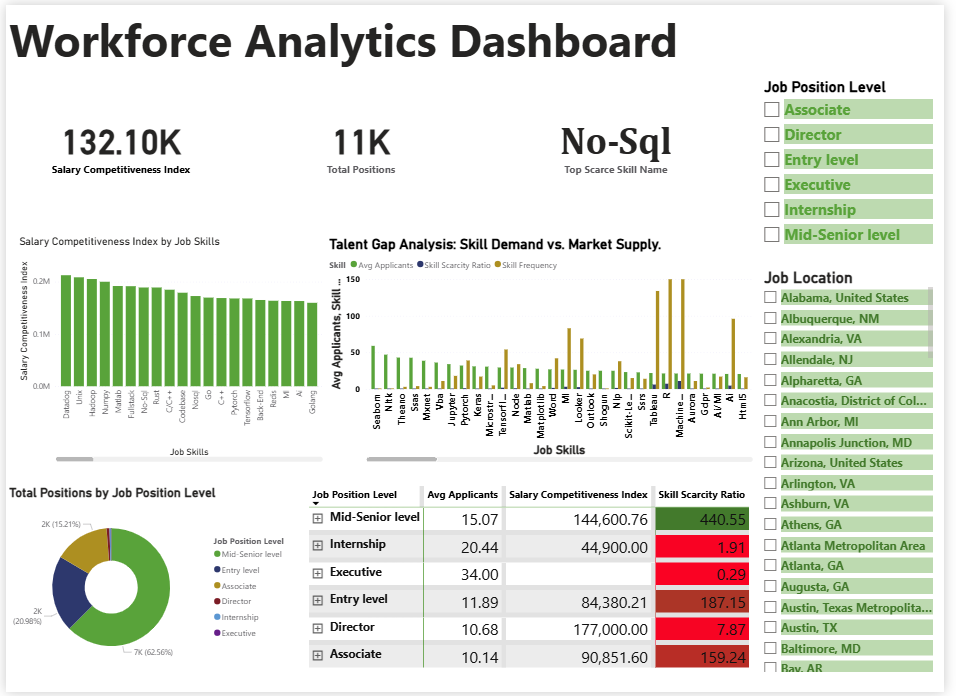

This screenshot's page, from the dashboard's own definition file:
{"tool":"powerbi","page":{"name":"Page 1","canvas":[1500,1100],"ordinal":0},"visuals":[{"type":"donutChart","fields":{"Category":["job_postings.Job Position Level"],"Y":["job_postings.Total Positions"]},"box":[0,768,464,304],"z":0},{"type":"textbox","box":[0,0,1280,144],"z":1000},{"type":"card","fields":{"Values":["job_postings.Salary Competitiveness Index"]},"box":[32,112,304,224],"z":2000},{"type":"card","fields":{"Values":["job_postings.Total Positions"]},"box":[416,112,304,224],"z":3000},{"type":"card","fields":{"Values":["job_postings.Top Scarce Skill Name"]},"box":[800,112,352,224],"z":4000},{"type":"clusteredColumnChart","fields":{"Category":["job_postings.Job Skills"],"Y":["job_postings.Salary Competitiveness Index"]},"box":[16,368,496,368],"z":5000},{"type":"clusteredColumnChart","title":"Talent Gap Analysis: Skill Demand vs. Market Supply.","fields":{"Category":["job_postings.Job Skills"],"Y":["job_postings.Avg Applicants","job_postings.Skill Scarcity Ratio","job_postings.Skill Frequency"]},"box":[512,368,688,368],"z":6000},{"type":"pivotTable","fields":{"Rows":["job_postings.Job Position Level","job_postings.Job Skills"],"Values":["job_postings.Avg Applicants","job_postings.Salary Competitiveness Index","job_postings.Skill Scarcity Ratio"]},"box":[480,764,720,336],"z":7000},{"type":"slicer","fields":{"Values":["job_postings.Job Position Level"]},"box":[1200,112,288,304],"z":8000},{"type":"slicer","fields":{"Values":["job_postings.Job Location"]},"box":[1200,416,288,640],"z":9000}]}

Visuals, with their boxes in screenshot pixels (x1, y1, x2, y2), scaled from the page's 1500x1100 canvas onto the 956x696 screenshot:
donutChart - job_postings.Job Position Level x job_postings.Total Positions: (left=0, top=486, right=296, bottom=678)
textbox: (left=0, top=0, right=816, bottom=91)
card - job_postings.Salary Competitiveness Index: (left=20, top=71, right=214, bottom=213)
card - job_postings.Total Positions: (left=265, top=71, right=459, bottom=213)
card - job_postings.Top Scarce Skill Name: (left=510, top=71, right=734, bottom=213)
clusteredColumnChart - job_postings.Job Skills x job_postings.Salary Competitiveness Index: (left=10, top=233, right=326, bottom=466)
"Talent Gap Analysis: Skill Demand vs. Market Supply." clusteredColumnChart: (left=326, top=233, right=765, bottom=466)
pivotTable - job_postings.Job Position Level x job_postings.Job Skills: (left=306, top=483, right=765, bottom=695)
slicer - job_postings.Job Position Level: (left=765, top=71, right=948, bottom=263)
slicer - job_postings.Job Location: (left=765, top=263, right=948, bottom=668)
